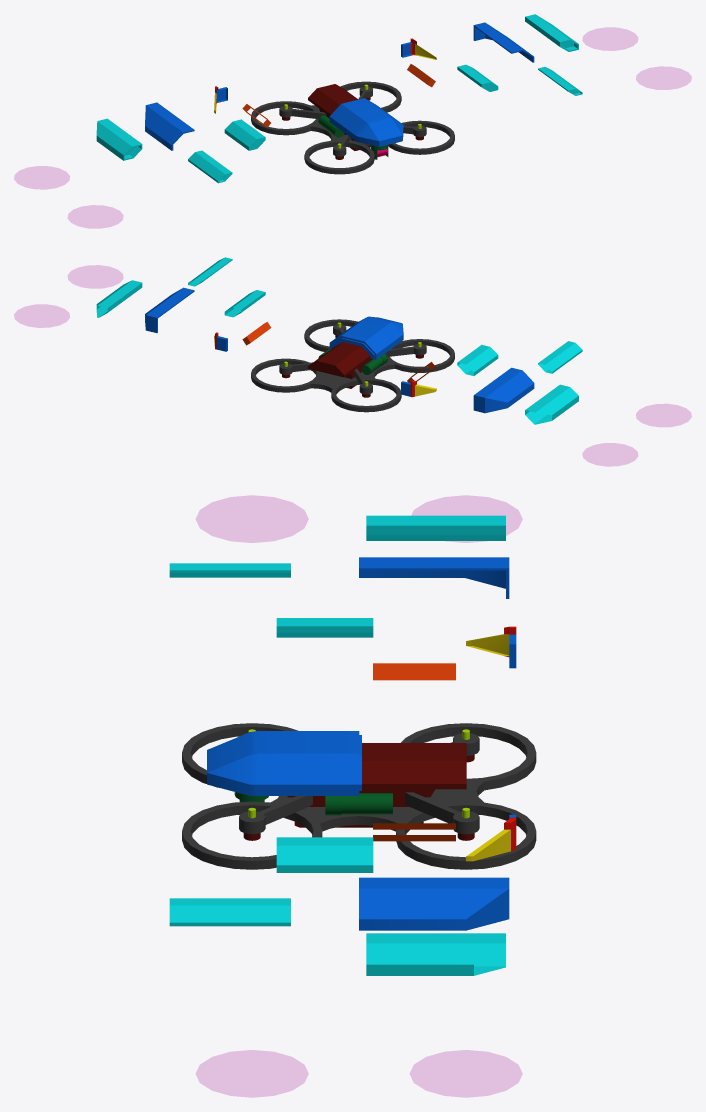
Rendered from Drone_A_01_Bake.fbx.
3 renders of one model, top to bottom at view 1: azimuth 30°, elevation 25°; view 2: azimuth 150°, elevation 25°; view 3: azimuth 270°, elevation 25°, orthographic. The views are drawn at different scales.
Visible parts, largest first — view 1: Drone_A; view 2: Drone_A; view 3: Drone_A.
Boxes of the visible parts, bbox=[...] form: Drone_A: bbox=[14, 14, 691, 228]; Drone_A: bbox=[14, 257, 691, 466]; Drone_A: bbox=[169, 495, 536, 1097].
Bounding box in the file's own units: 999 × 71.11 × 257.
